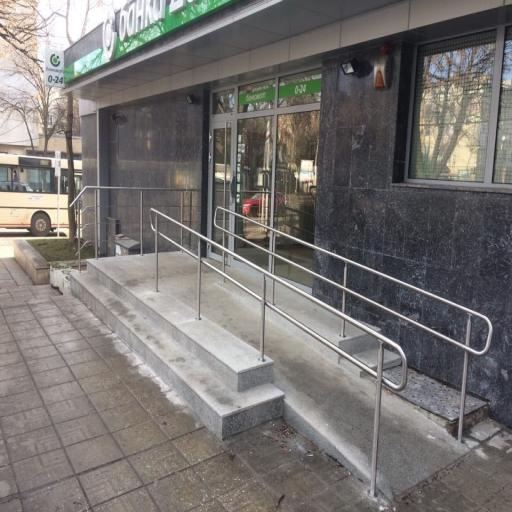entrance: (145, 201, 496, 505)
laptop: (66, 252, 284, 438)
